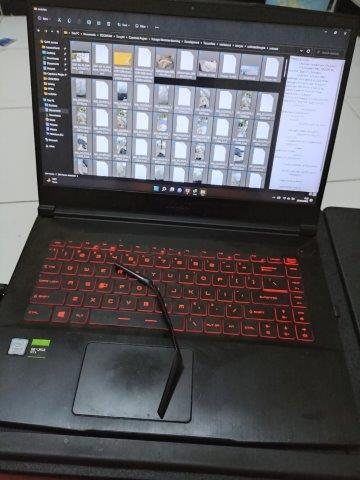sedotan: (116, 263, 180, 416)
